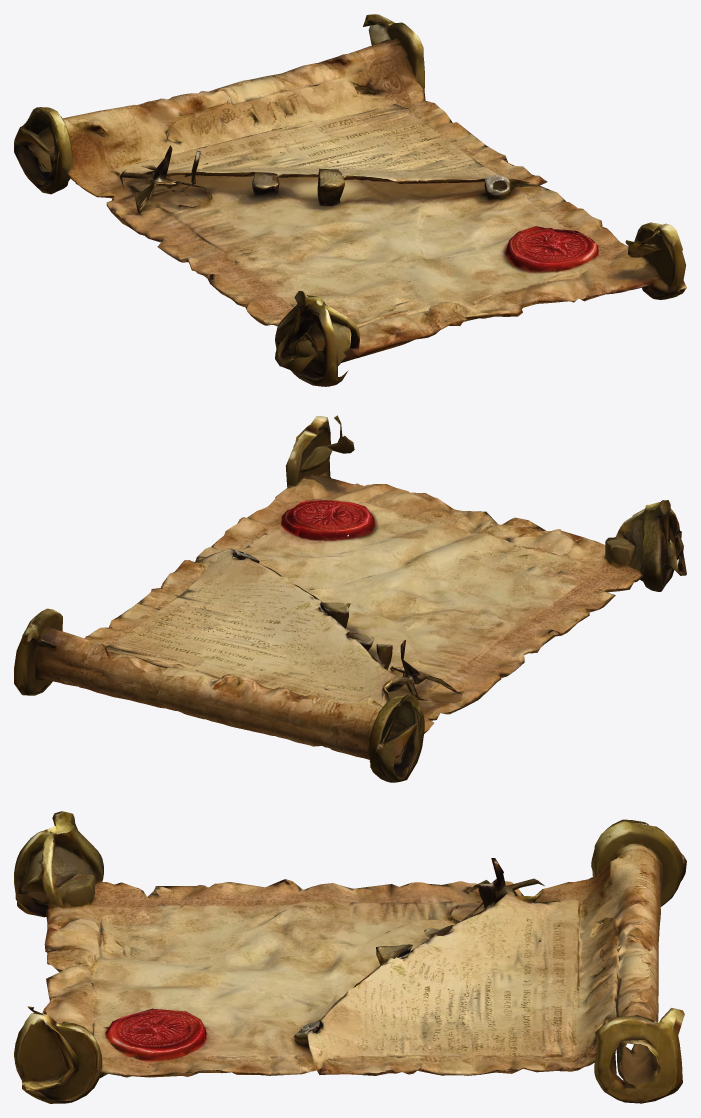
The model's file is mempool-scroll.glb.
3 views of the same model, one above another, from view 1: azimuth 30°, elevation 25°; view 2: azimuth 150°, elevation 25°; view 3: azimuth 270°, elevation 25° (orthographic). The views are drawn at different scales.
Parts seen in each view (by area): view 1: tripo_node_13026cf5-1363-46cd-a3e3-1f3f193805f4; view 2: tripo_node_13026cf5-1363-46cd-a3e3-1f3f193805f4; view 3: tripo_node_13026cf5-1363-46cd-a3e3-1f3f193805f4.
Part boxes in pixels (bbox=[...]): tripo_node_13026cf5-1363-46cd-a3e3-1f3f193805f4: bbox=[14, 14, 686, 386]; tripo_node_13026cf5-1363-46cd-a3e3-1f3f193805f4: bbox=[14, 415, 686, 782]; tripo_node_13026cf5-1363-46cd-a3e3-1f3f193805f4: bbox=[14, 811, 686, 1103].
Bounding box in the file's own units: 0.7447 × 0.1636 × 0.9981.
Materials: 1 (1 with a texture image).
